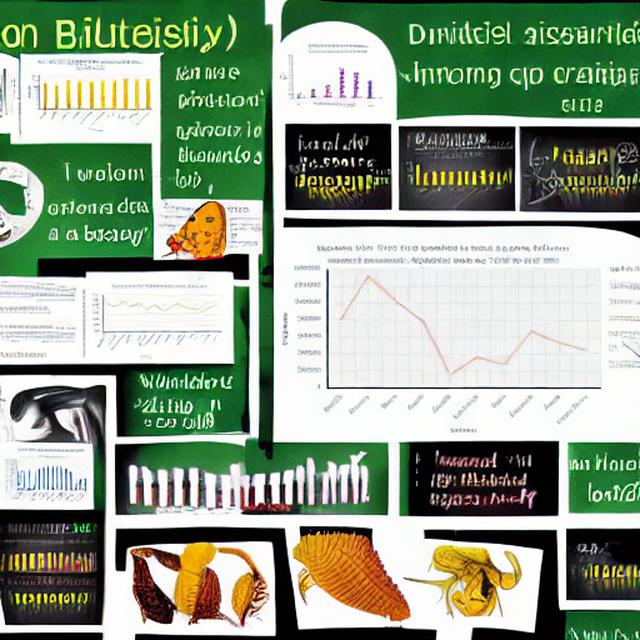Graph: (277, 240, 606, 436), (78, 281, 227, 362), (23, 57, 156, 134), (276, 48, 380, 108), (401, 150, 498, 211), (7, 448, 90, 505)
